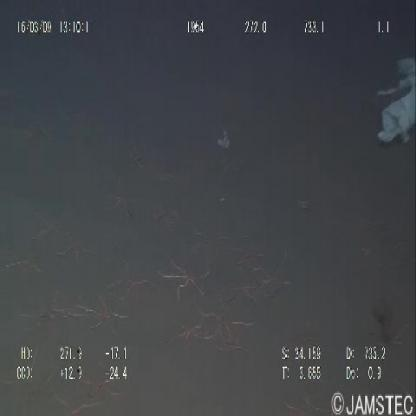Bio: (171, 305, 257, 362), (77, 285, 134, 345), (159, 249, 212, 306)
